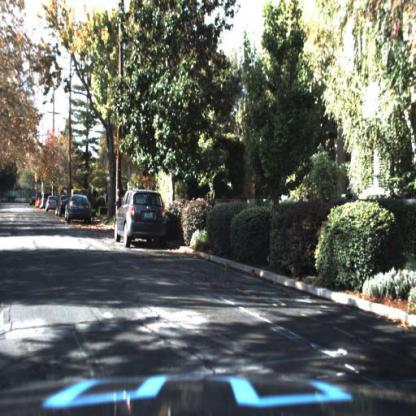car: (108, 181, 179, 261), (63, 191, 97, 230), (55, 193, 69, 224), (45, 190, 58, 217)
